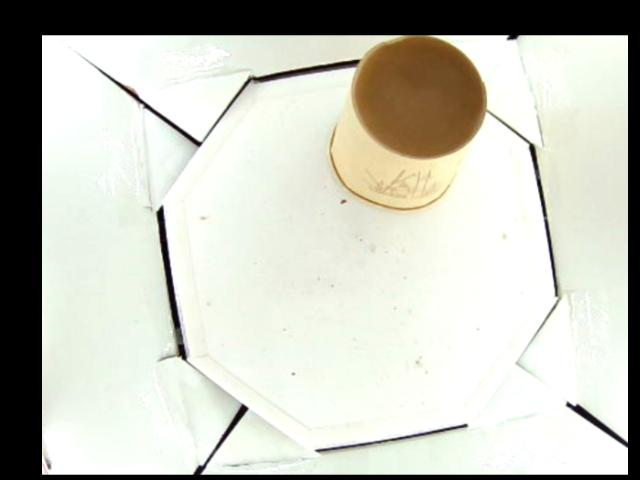Cup: (330, 38, 488, 212)
